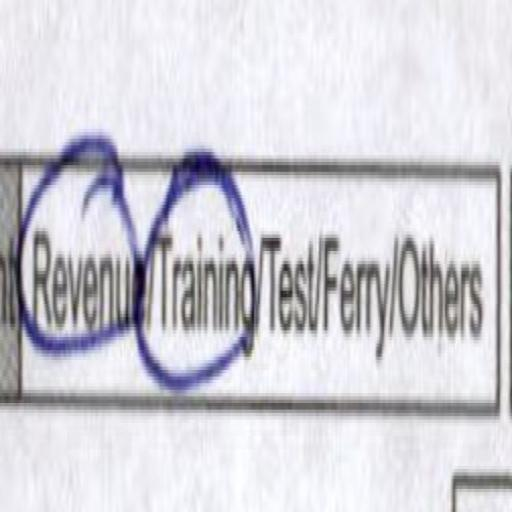check: (22, 106, 136, 426), (146, 131, 258, 427)
